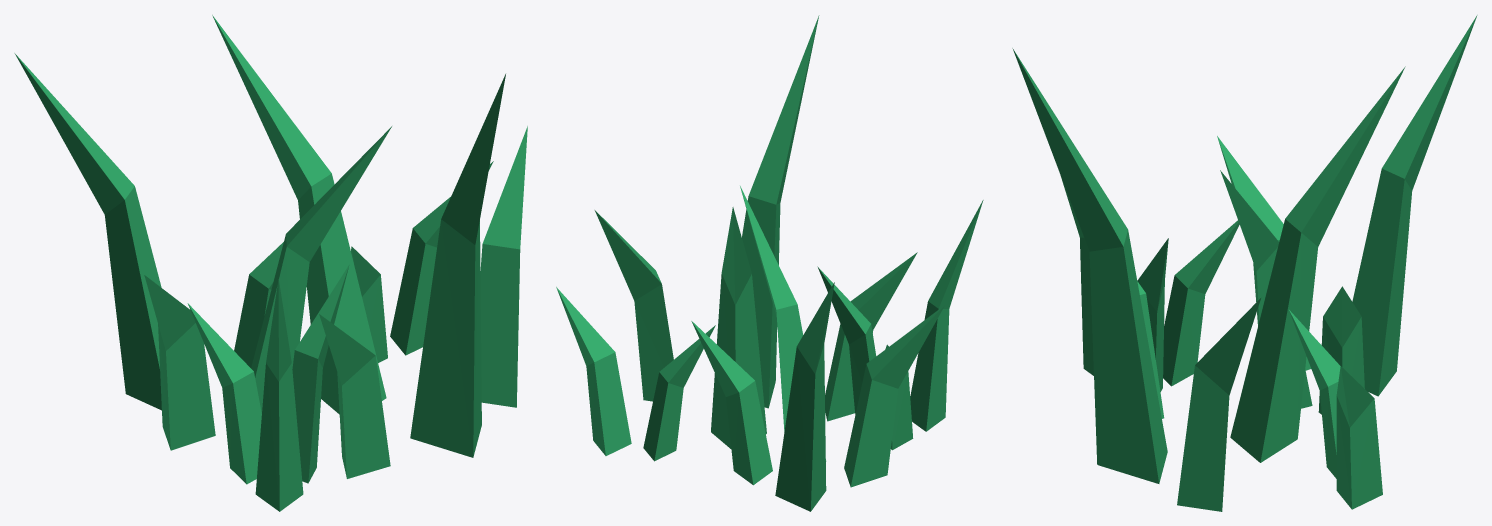
File: grass.dae
The picture shows the model from 3 angles, left to right: view 1: azimuth 30°, elevation 25°; view 2: azimuth 150°, elevation 25°; view 3: azimuth 270°, elevation 25°; orthographic projection. The views are drawn at different scales.
Visible parts, largest first — view 1: Circle.018; view 2: Circle.018; view 3: Circle.018.
Boxes of the visible parts, x1,y1,x2,y2 form: Circle.018: (14, 15, 527, 511); Circle.018: (556, 15, 983, 511); Circle.018: (1012, 15, 1477, 511).
Bounding box in the file's own units: 0.6728 × 0.6684 × 0.6538.
